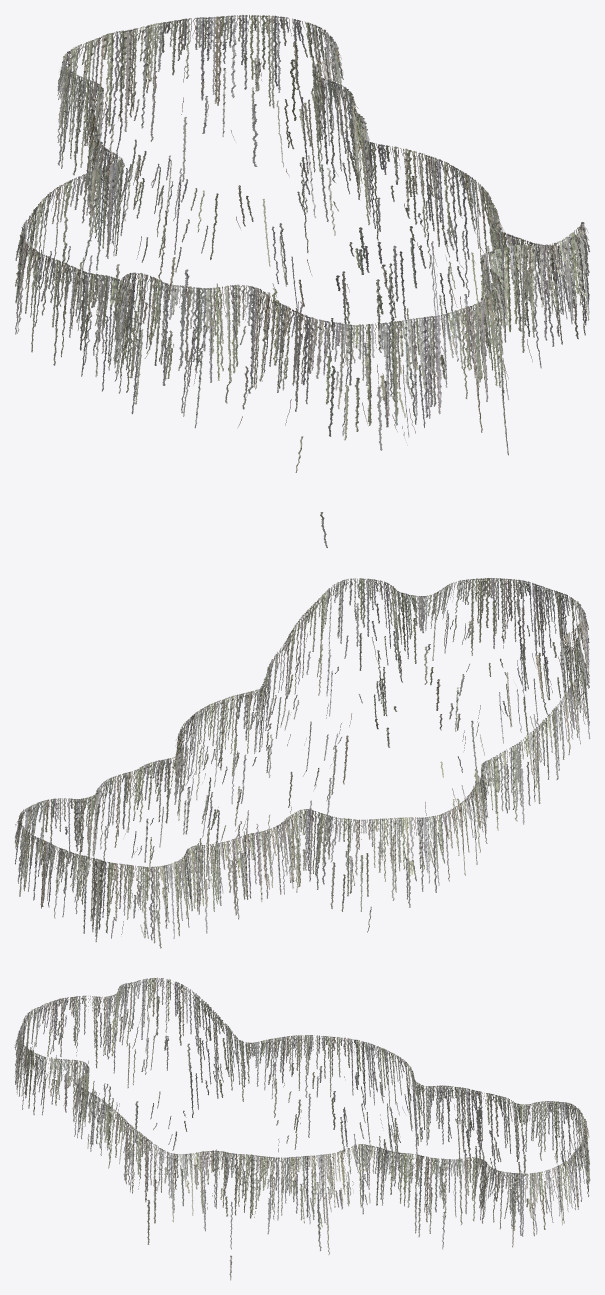
File: SM_H08_Vines.fbx
3 renders of one model, top to bottom at view 1: azimuth 30°, elevation 25°; view 2: azimuth 150°, elevation 25°; view 3: azimuth 270°, elevation 25°, orthographic. The views are drawn at different scales.
Parts seen in each view (by area): view 1: SM_H08_Vines; view 2: SM_H08_Vines; view 3: SM_H08_Vines.
Part boxes in pixels (box(x1,y1,x2,y2)): SM_H08_Vines: box(15, 15, 589, 547); SM_H08_Vines: box(14, 578, 590, 948); SM_H08_Vines: box(14, 977, 590, 1280).
Bounding box in the file's own units: 145 × 107 × 240.
